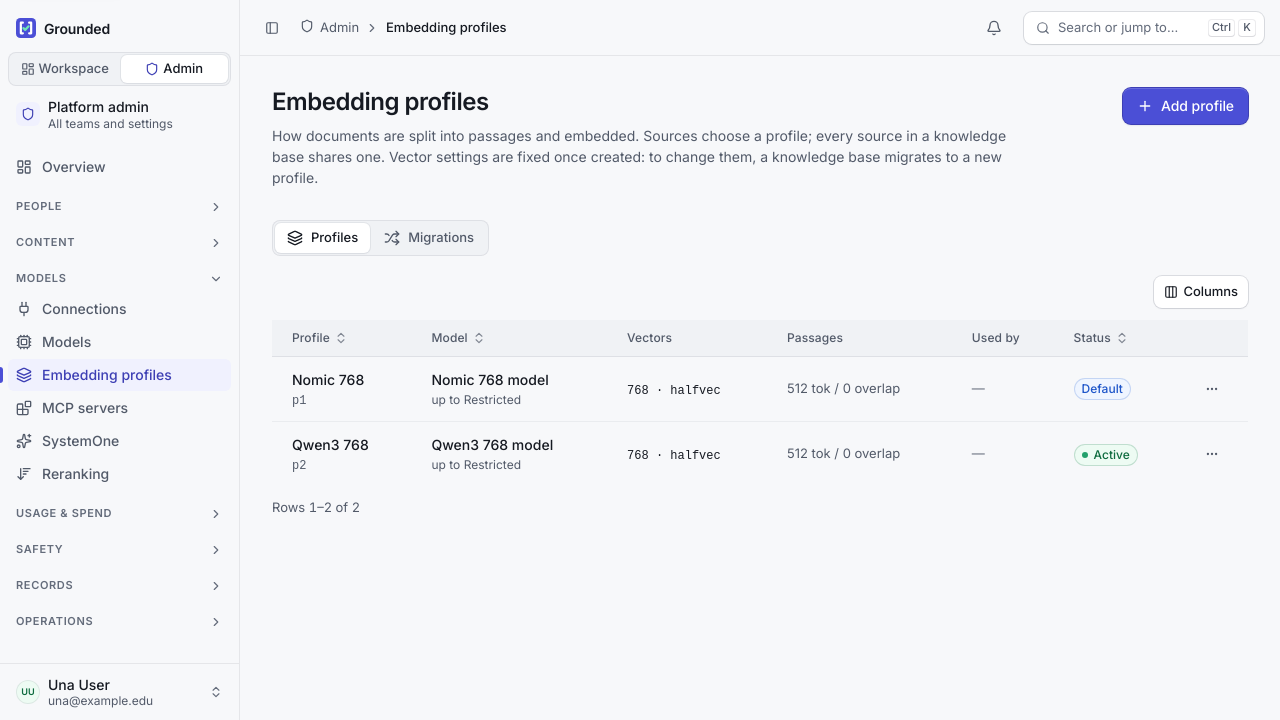
Scenario: Admin → Embedding profiles › Migrations › puts the header's primary with the tab: Add profile on Profiles, Migrate a knowledge base on Migrations
Check: the heading "Embedding profiles" is shown, box [272,88,489,117]
Check: the table named "Embedding profiles" is shown, box [272,320,1248,486]
Click the tab "Migrations" at (429, 238), box [372,223,486,253]
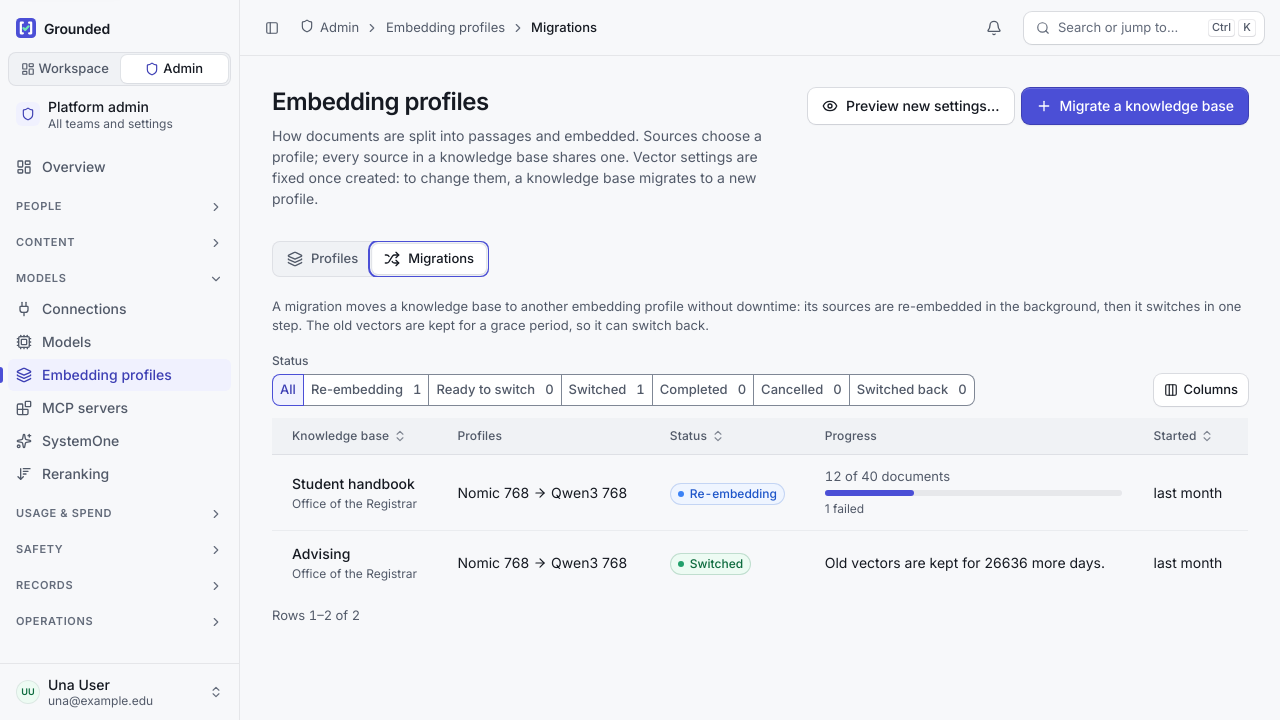
Check: the table named "Profile migrations" is shown, box [272,418,1248,594]
Check: the button "Migrate a knowledge base" is shown, box [1022,88,1248,124]
Check: the button "Add profile" is gone
